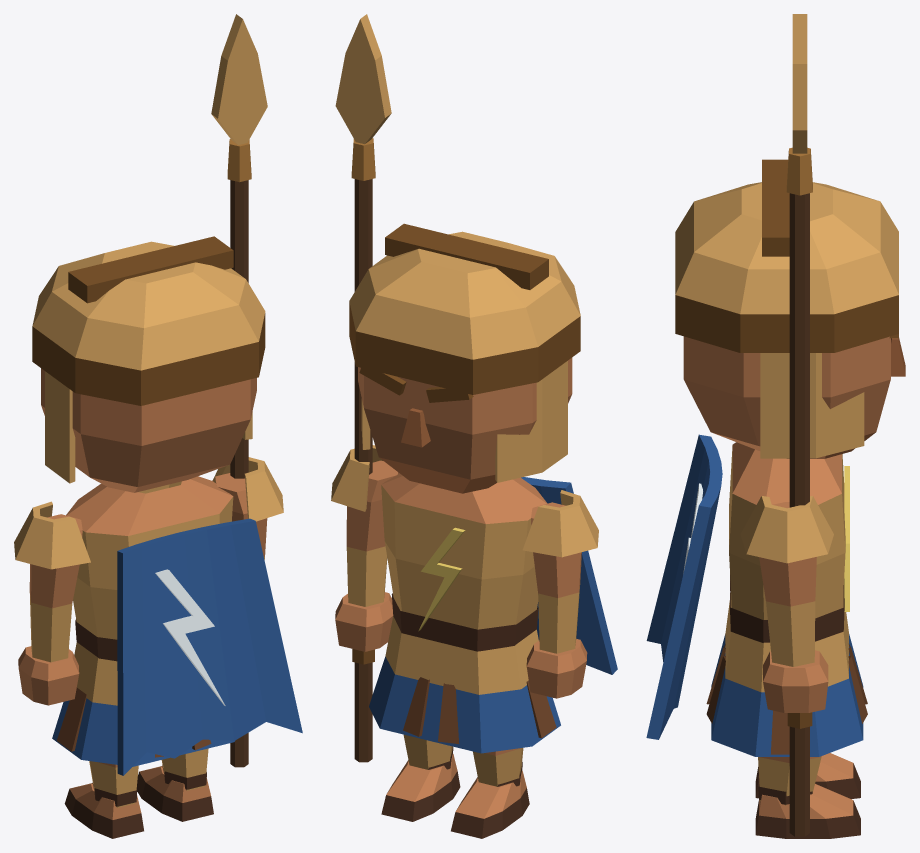
The model's file is CH_ThunderChampion.fbx.
3 renders of one model, left to right at view 1: azimuth 30°, elevation 25°; view 2: azimuth 150°, elevation 25°; view 3: azimuth 270°, elevation 25°, orthographic. The views are drawn at different scales.
Parts seen in each view (by area): view 1: Body, Head, ArmR, ArmL, LegL, LegR; view 2: Head, Body, ArmR, ArmL, LegL, LegR; view 3: Head, Body, ArmR, LegR, LegL.
Part boxes in pixels (x1,y1,x2,y2): Body: (52, 476, 302, 775); Head: (32, 236, 265, 492); ArmR: (211, 14, 283, 767); ArmL: (14, 501, 90, 705); LegL: (64, 761, 143, 838); LegR: (136, 748, 213, 821); Head: (349, 223, 580, 493); Body: (369, 472, 617, 753); ArmR: (331, 14, 398, 762); ArmL: (522, 490, 598, 698); LegL: (451, 748, 529, 838); LegR: (381, 734, 460, 821); Head: (675, 159, 905, 458); Body: (646, 434, 867, 756); ArmR: (740, 14, 833, 836); LegR: (755, 756, 860, 838); LegL: (755, 753, 860, 799).
Bounding box in the file's own units: 0.804 × 0.6165 × 2.22.
